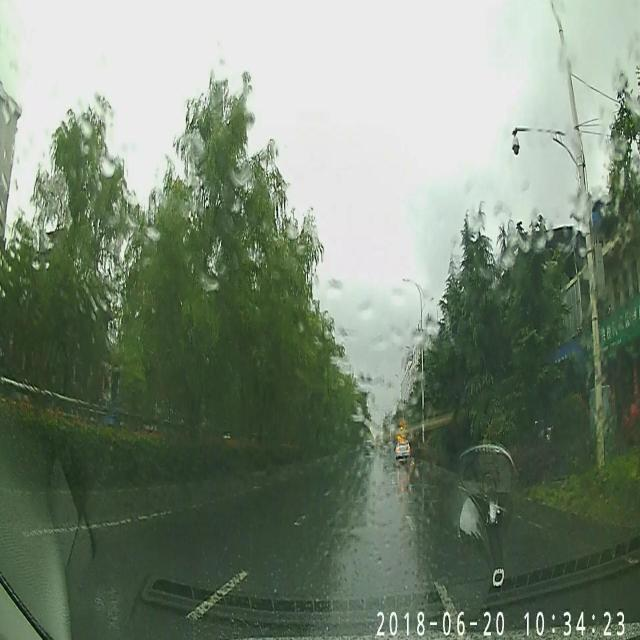car: (393, 434, 411, 462)
